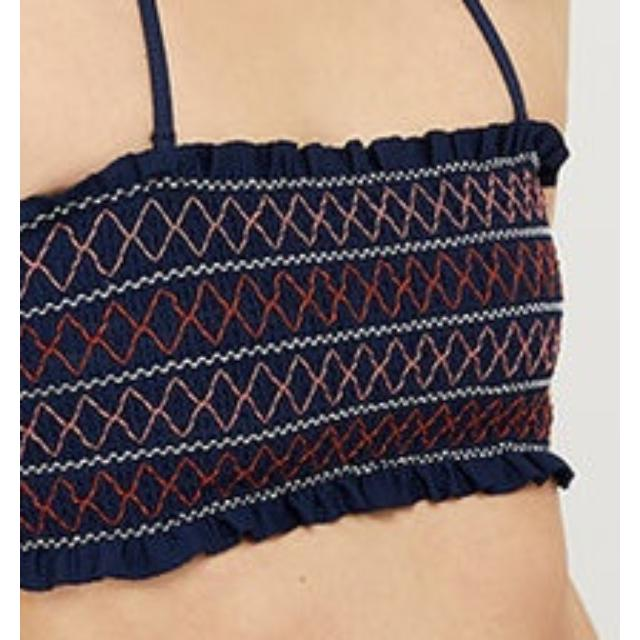polyester: (21, 123, 592, 554)
